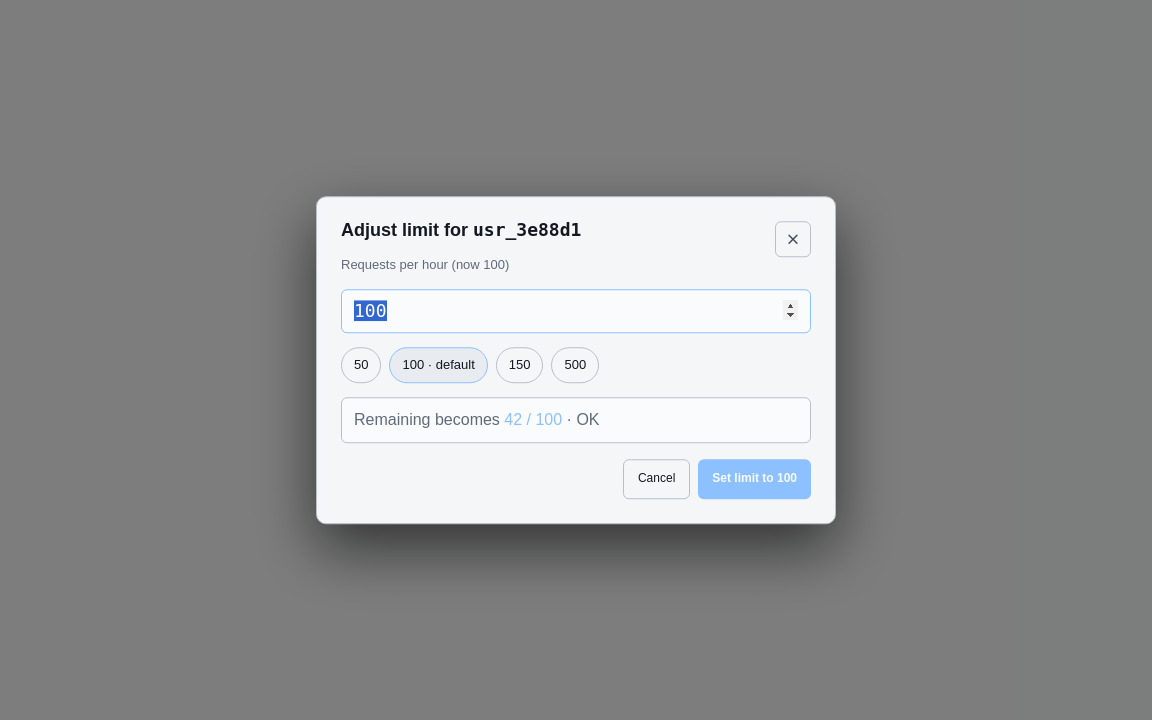
Scenario: AdjustLimitModal › shows correct remaining preview
The image size is (1152, 720).
Click the button "500". click: [575, 365]
box: x1=552 y1=347 x2=599 y2=383
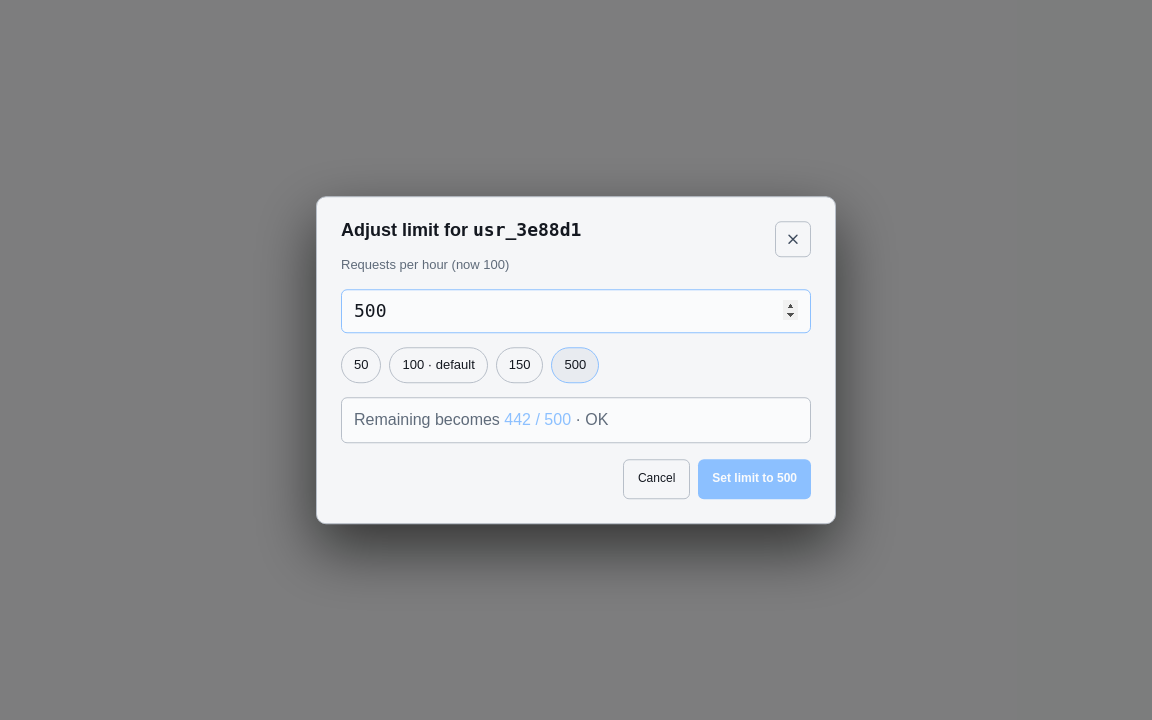
Expected: the element with test id "modal-body" shows "Remaining becomes", x1=354 y1=411 x2=500 y2=428
Expected: the element with test id "modal-body" shows "442 / 500", x1=341 y1=255 x2=811 y2=443
